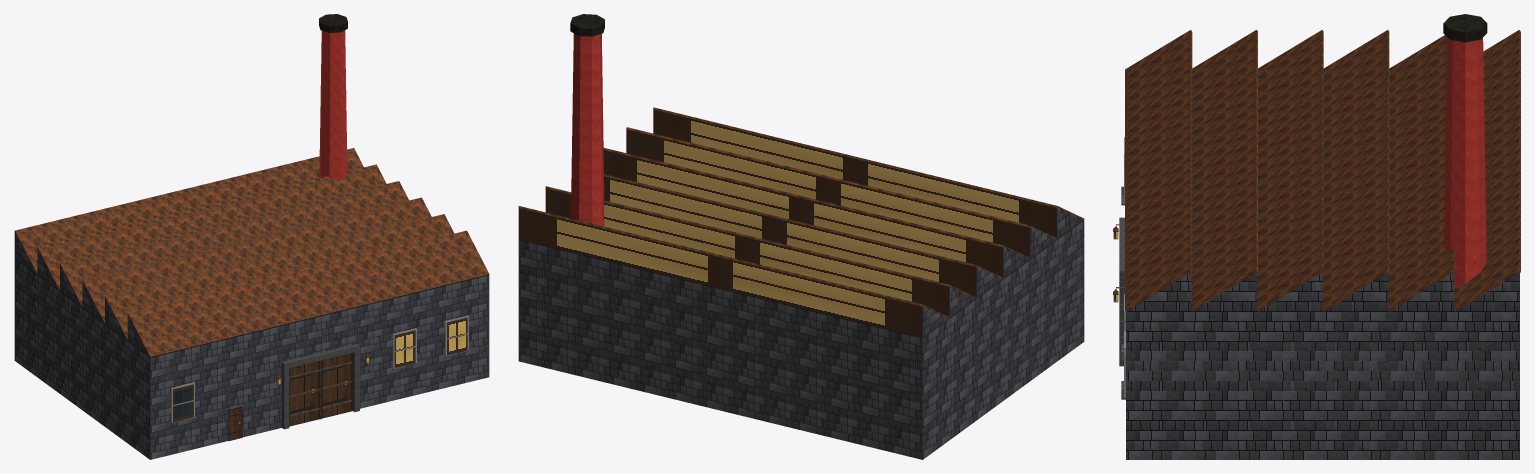
Rendered from conservera.obj.
3 views of the same model, side by side, from view 1: azimuth 30°, elevation 25°; view 2: azimuth 150°, elevation 25°; view 3: azimuth 270°, elevation 25° (orthographic). The views are drawn at different scales.
Visible parts, largest first — view 1: conservera; view 2: conservera; view 3: conservera.
Boxes of the visible parts, left/top/right/bottom form: conservera: left=14, top=14, right=489, bottom=459; conservera: left=518, top=14, right=1084, bottom=459; conservera: left=1113, top=14, right=1520, bottom=459.
Size of the model in its own units: 26 by 20.6 by 18.61.
Materials: 10 (10 with a texture image).
